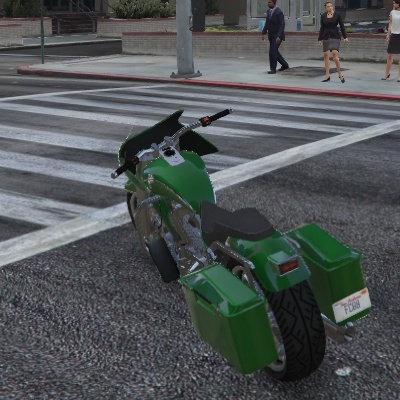off: (271, 248, 306, 281)
